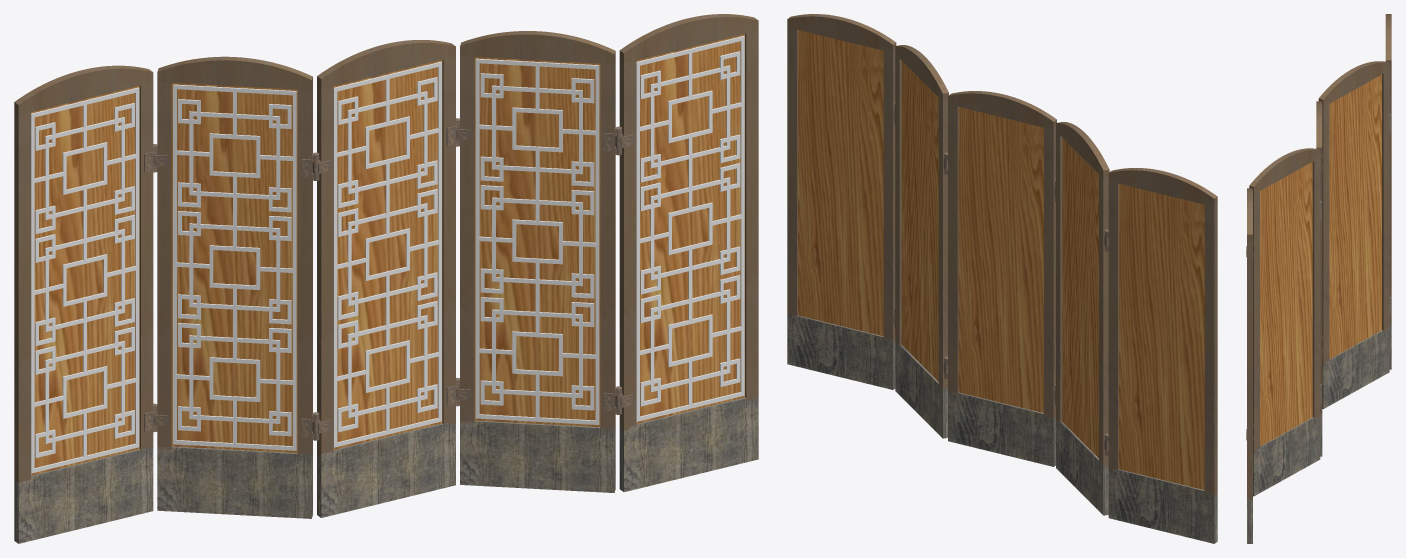
The model's file is Other_Folding_screen__0014.glb.
The picture shows the model from 3 angles, left to right: view 1: azimuth 30°, elevation 25°; view 2: azimuth 150°, elevation 25°; view 3: azimuth 270°, elevation 25°; orthographic projection. The views are drawn at different scales.
Visible parts, largest first — view 1: panel_3::lattice_field, panel_1::lattice_field, panel_2::lattice_field, panel_4::lattice_field, panel_0::lattice_field, panel_3::fretwork, panel_1::fretwork, panel_2::fretwork, panel_4::fretwork, panel_0::fretwork, panel_1::bottom_rail, panel_3::bottom_rail (+18 smaller); view 2: panel_4::lattice_field, panel_2::lattice_field, panel_0::lattice_field, panel_3::lattice_field, panel_1::lattice_field, panel_0::bottom_rail, panel_4::bottom_rail, panel_2::bottom_rail, panel_0::stile_0, panel_4::stile_0, panel_2::stile_0, panel_2::stile_1 (+13 smaller); view 3: panel_1::lattice_field, panel_3::lattice_field, panel_1::bottom_rail, panel_3::bottom_rail, panel_3::stile_0, panel_1::stile_0, panel_1::stile_1, panel_3::stile_1, panel_4::stile_1, panel_3::crown_arch, panel_1::crown_arch, panel_2::stile_1 (+5 smaller).
Boxes of the visible parts, x1,y1,x2,y2 form: panel_3::lattice_field: (474, 57, 600, 426); panel_1::lattice_field: (171, 83, 297, 452); panel_2::lattice_field: (333, 60, 442, 449); panel_4::lattice_field: (636, 34, 744, 423); panel_0::lattice_field: (31, 86, 139, 475); panel_3::fretwork: (475, 58, 599, 424); panel_1::fretwork: (173, 84, 296, 450); panel_2::fretwork: (333, 61, 441, 447); panel_4::fretwork: (636, 36, 744, 421); panel_0::fretwork: (31, 87, 139, 473); panel_1::bottom_rail: (157, 446, 312, 518); panel_3::bottom_rail: (460, 420, 615, 492); panel_4::lattice_field: (798, 30, 883, 336); panel_2::lattice_field: (958, 107, 1043, 412); panel_0::lattice_field: (1119, 184, 1204, 489); panel_3::lattice_field: (901, 61, 938, 381); panel_1::lattice_field: (1062, 138, 1098, 457); panel_0::bottom_rail: (1108, 468, 1217, 543); panel_4::bottom_rail: (787, 314, 895, 389); panel_2::bottom_rail: (948, 391, 1055, 466); panel_0::stile_0: (1204, 203, 1217, 495); panel_4::stile_0: (883, 49, 895, 341); panel_2::stile_0: (1044, 126, 1055, 418); panel_2::stile_1: (948, 102, 958, 394); panel_1::lattice_field: (1329, 74, 1381, 359); panel_3::lattice_field: (1260, 162, 1312, 446); panel_1::bottom_rail: (1322, 327, 1389, 409); panel_3::bottom_rail: (1253, 416, 1320, 496); panel_3::stile_0: (1312, 156, 1320, 419); panel_1::stile_0: (1382, 68, 1389, 331); panel_1::stile_1: (1322, 102, 1329, 363); panel_3::stile_1: (1253, 189, 1259, 450); panel_4::stile_1: (1247, 242, 1252, 500); panel_3::crown_arch: (1249, 148, 1320, 193); panel_1::crown_arch: (1318, 61, 1389, 106); panel_2::stile_1: (1320, 154, 1322, 413).
Bounding box in the file's own units: 2.62 × 1.77 × 0.7299.
Materials: 5 (4 with a texture image).
